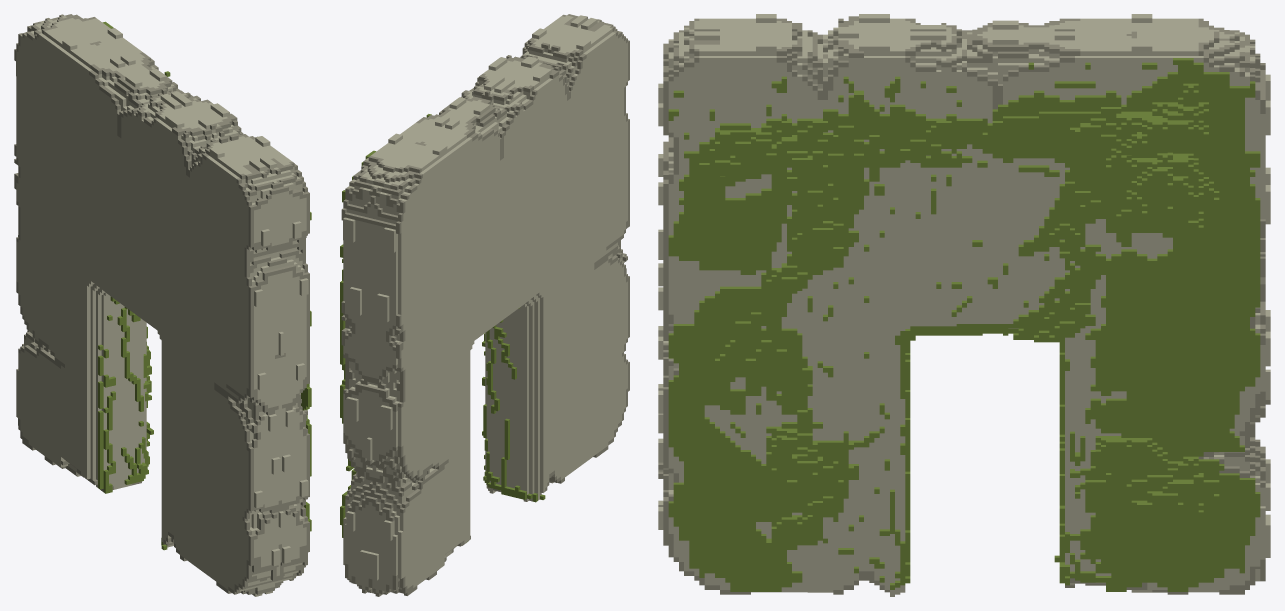
The model's file is forest1.3-14.obj.
The picture shows the model from 3 angles, left to right: view 1: azimuth 30°, elevation 25°; view 2: azimuth 150°, elevation 25°; view 3: azimuth 270°, elevation 25°; orthographic projection. The views are drawn at different scales.
Bounding box in the file's own units: 2.4 × 11.8 × 11.9.
1 material, 1 textured.
